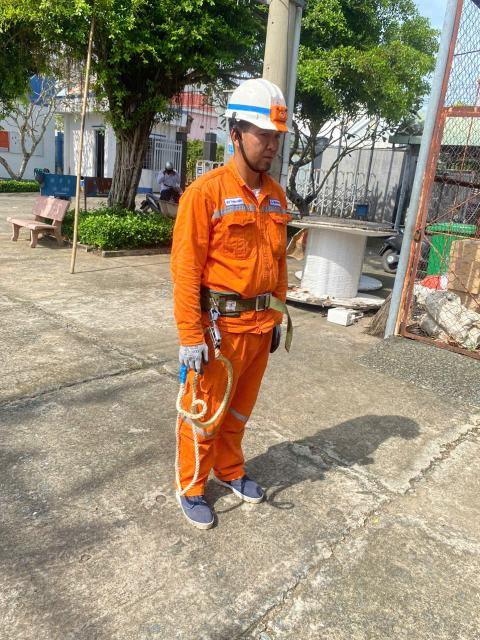gloves: (174, 338, 217, 372)
harness: (185, 280, 292, 327)
helmet: (221, 71, 294, 141)
shoes: (164, 483, 222, 535), (216, 469, 273, 510)
